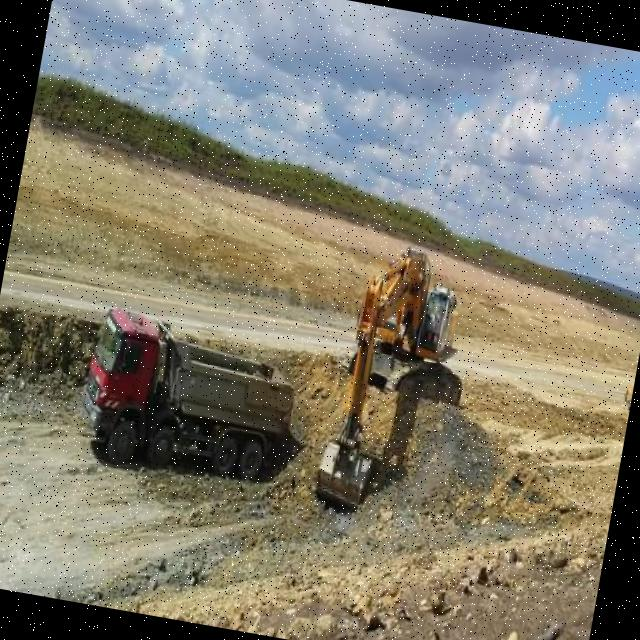Dump Truck: (71, 300, 304, 490)
Excavator: (309, 237, 485, 528)
